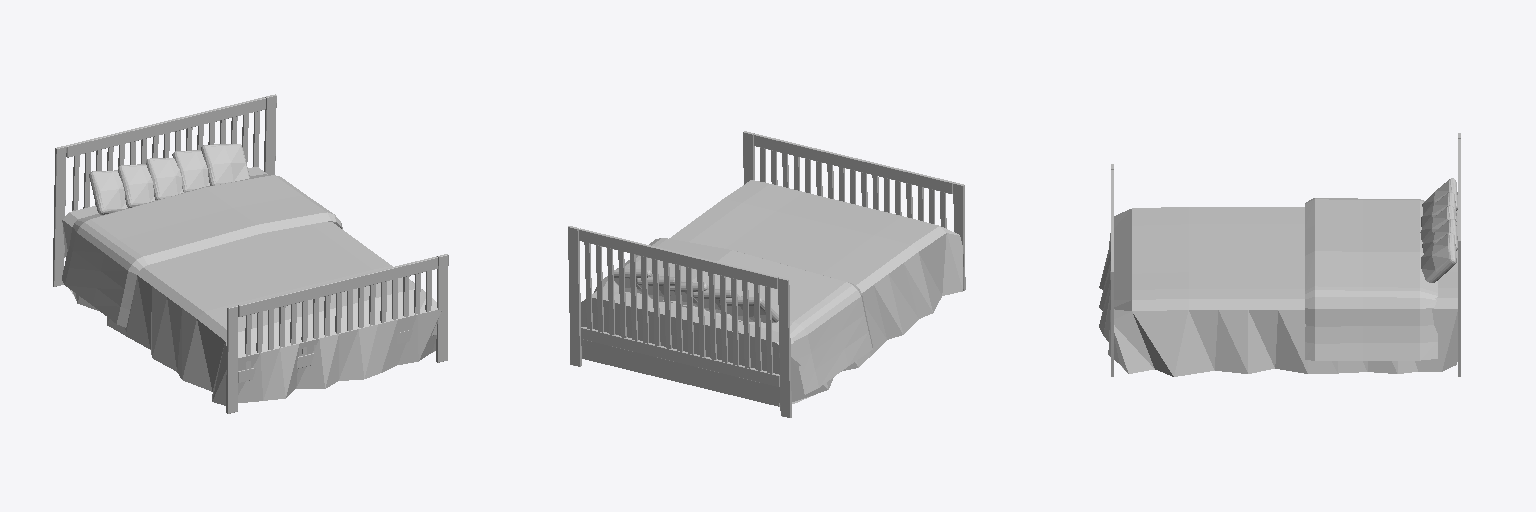
Rendered from letto.obj.
3 views of the same model, side by side, from view 1: azimuth 30°, elevation 25°; view 2: azimuth 150°, elevation 25°; view 3: azimuth 270°, elevation 25° (orthographic).
Visible parts, largest first — view 1: QuadPatch0, Loft01, Object03, Object22, ChamferBo1, ChamferBo5, ChamferBo4, ChamferBo3, ChamferBo2, Object04; view 2: QuadPatch0, Object22, Loft01, Object03, ChamferBo5; view 3: QuadPatch0, Loft01, ChamferBo1, Object22, Object03.
Part boxes in pixels (left/top/right/bottom): QuadPatch0: left=62, top=167, right=441, bottom=405; Loft01: left=62, top=174, right=342, bottom=327; Object03: left=226, top=254, right=448, bottom=413; Object22: left=53, top=94, right=276, bottom=286; ChamferBo1: left=201, top=144, right=249, bottom=185; ChamferBo5: left=89, top=170, right=127, bottom=214; ChamferBo4: left=118, top=164, right=154, bottom=207; ChamferBo3: left=146, top=158, right=183, bottom=199; ChamferBo2: left=172, top=150, right=209, bottom=191; Object04: left=238, top=324, right=436, bottom=382; QuadPatch0: left=581, top=180, right=963, bottom=406; Object22: left=568, top=226, right=791, bottom=417; Loft01: left=594, top=238, right=872, bottom=394; Object03: left=743, top=131, right=965, bottom=290; ChamferBo5: left=719, top=296, right=778, bottom=322; QuadPatch0: left=1099, top=207, right=1457, bottom=376; Loft01: left=1305, top=198, right=1437, bottom=360; ChamferBo1: left=1421, top=232, right=1456, bottom=282; Object22: left=1458, top=133, right=1460, bottom=376; Object03: left=1111, top=164, right=1113, bottom=376.
Size of the model in its own units: 1589 by 855 by 2041.